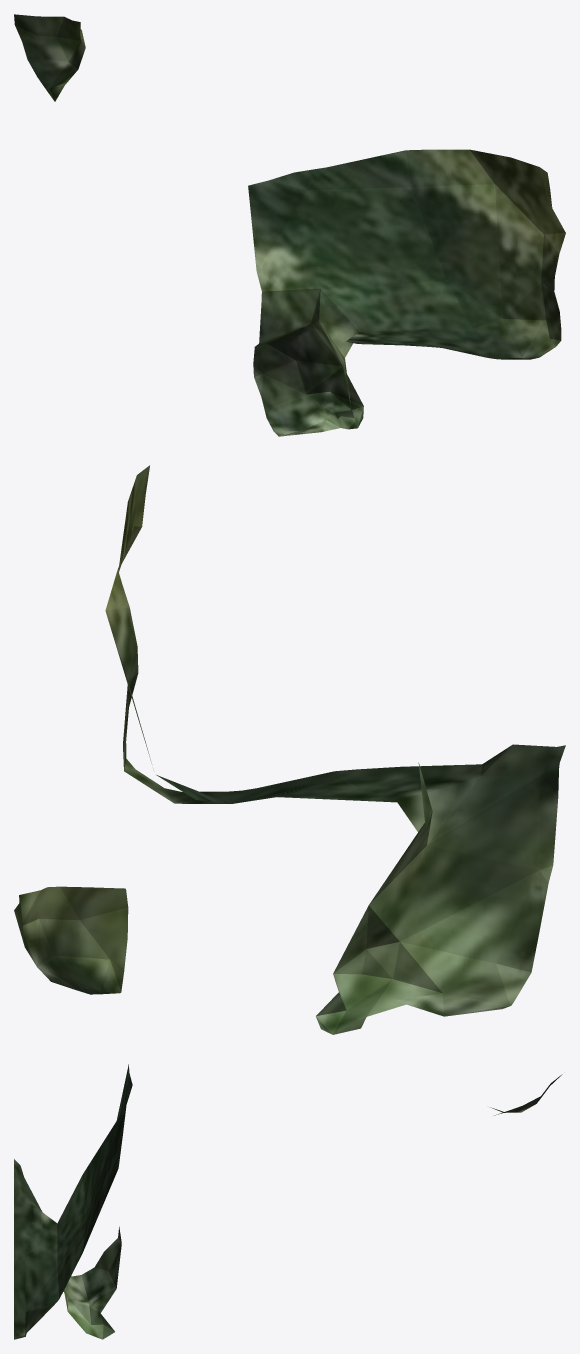
The picture shows the model from 3 angles, top to bottom: view 1: azimuth 30°, elevation 25°; view 2: azimuth 150°, elevation 25°; view 3: azimuth 270°, elevation 25°; orthographic projection. The views are drawn at different scales.
Size of the model in its own units: 2.71 by 2.57 by 5.42.
Materials: 1 (1 with a texture image).
